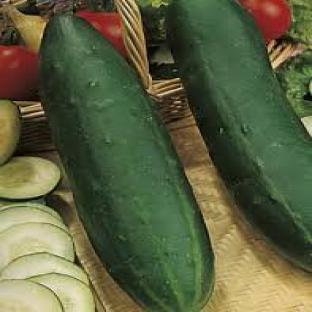Cucumber: (40, 15, 213, 311), (0, 224, 74, 270), (0, 253, 88, 283), (0, 156, 60, 198), (29, 273, 95, 311), (0, 281, 63, 311), (0, 208, 68, 232), (0, 99, 20, 165), (0, 202, 61, 220), (301, 116, 311, 136)
Tomato: (77, 11, 126, 57), (0, 47, 38, 99)
